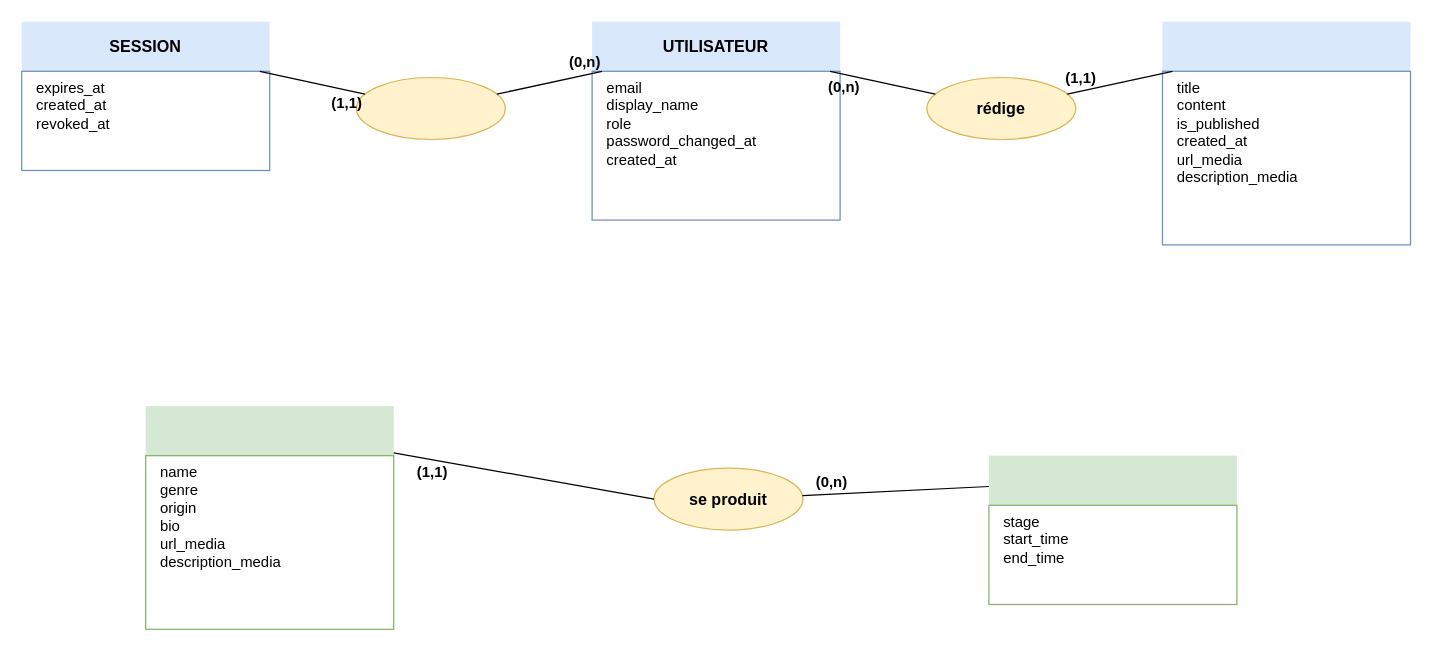
This 1432x651 diagram has some shape labels left out. Here are the shapes that lost their labels. From the top down, the box of each, then its label:
(1162, 21, 1410, 71): ARTICLE
(355, 76, 505, 140): ouvre
(145, 405, 393, 455): ARTISTE
(988, 455, 1236, 505): CONCERT
